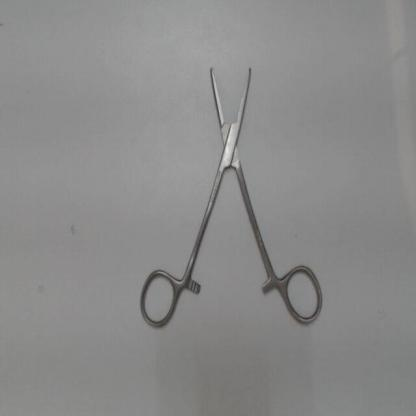Mayo Needle Holder: (133, 51, 330, 336)
